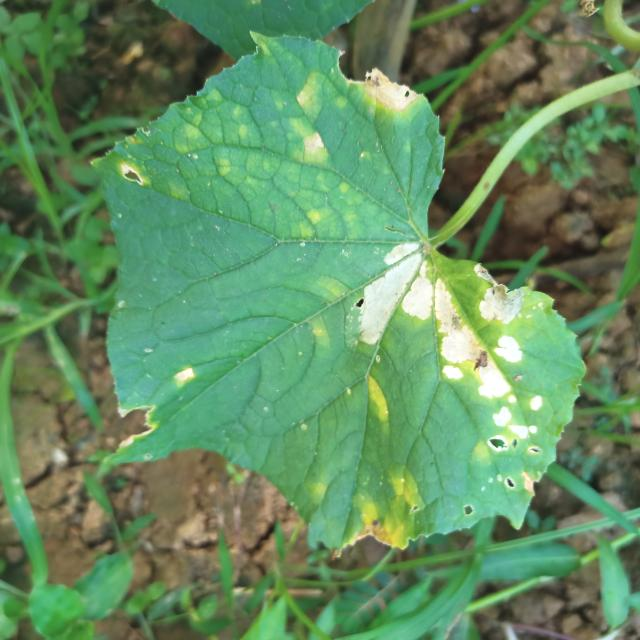disease_cucumber: (353, 233, 560, 501), (341, 458, 428, 551), (273, 68, 343, 176), (353, 372, 403, 434)
